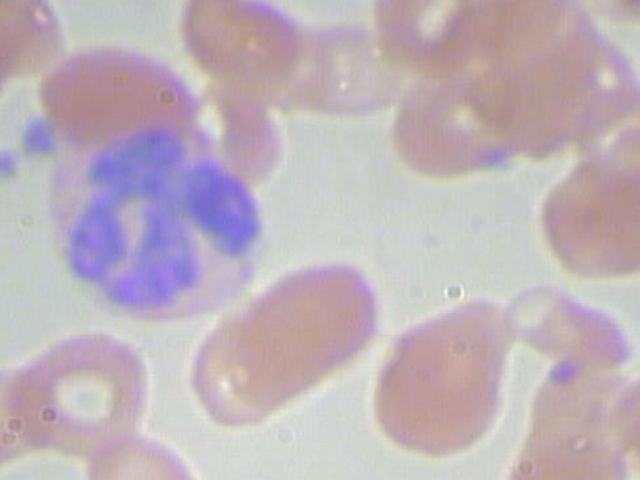Platelets: (8, 114, 65, 161), (0, 137, 34, 185)
RBC: (357, 290, 521, 461), (225, 255, 383, 386), (0, 328, 159, 456), (33, 36, 203, 155), (383, 62, 539, 179), (275, 15, 425, 128), (164, 319, 314, 432), (527, 162, 640, 292), (484, 281, 639, 374), (169, 0, 319, 93), (555, 84, 640, 192), (0, 0, 81, 78), (612, 341, 640, 480), (545, 0, 640, 29)
WBC: (45, 121, 276, 333)
